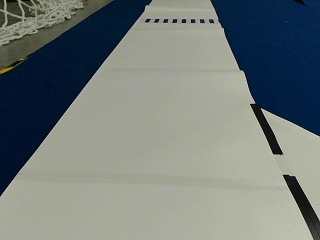crosswalk: (145, 17, 214, 23)
